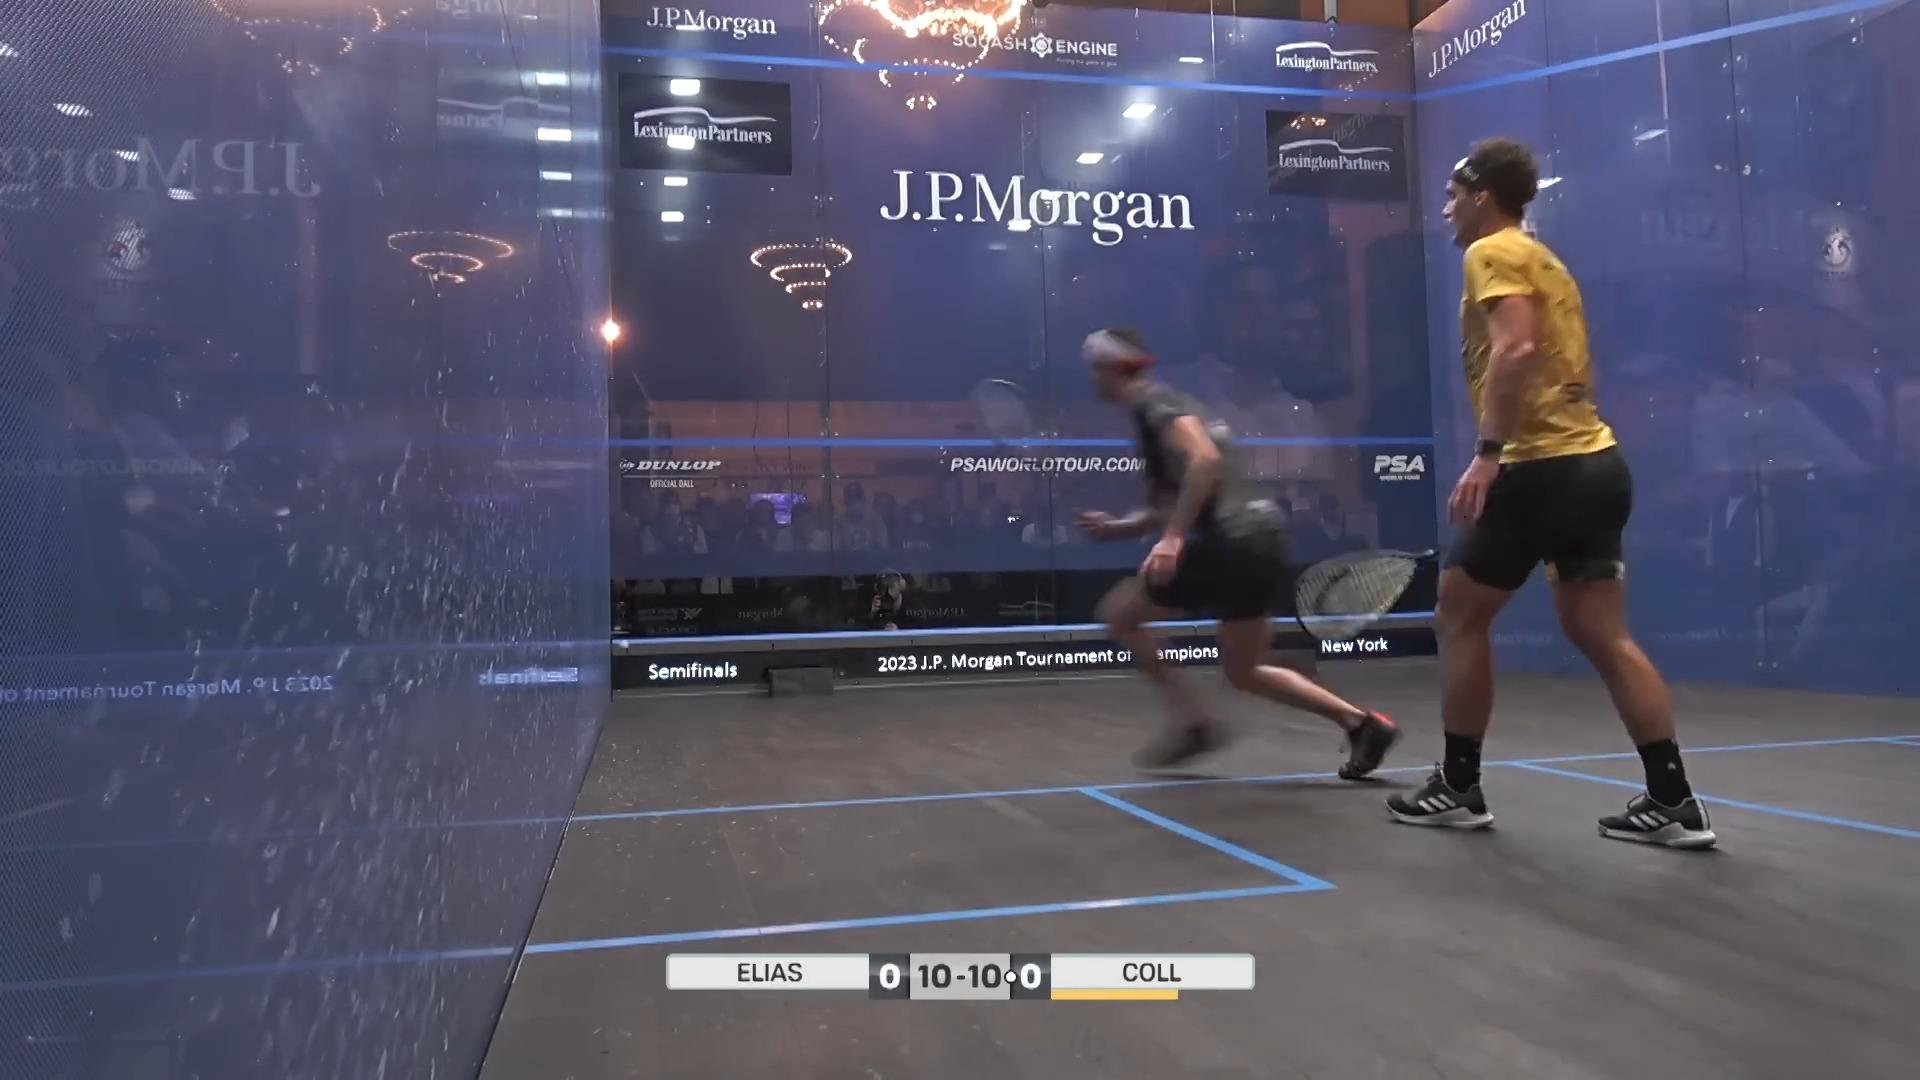Racket: (1288, 533, 1462, 661), (948, 368, 1081, 521)
